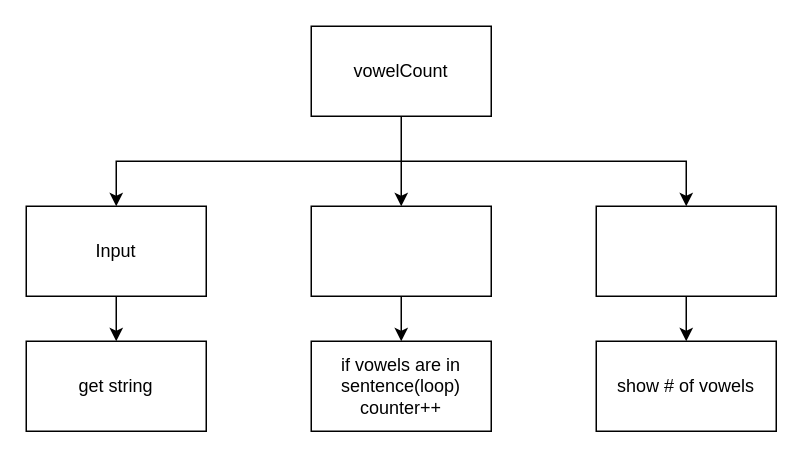
Some shapes in this 803 by 458 pixel diagram are drawn without their labels. The shapes that lost their labels are listed below. From the top down, each one's box as (x1, y1, x2, y2) in pixels, then its label:
(310, 205, 491, 296): Process
(595, 205, 776, 296): Output
